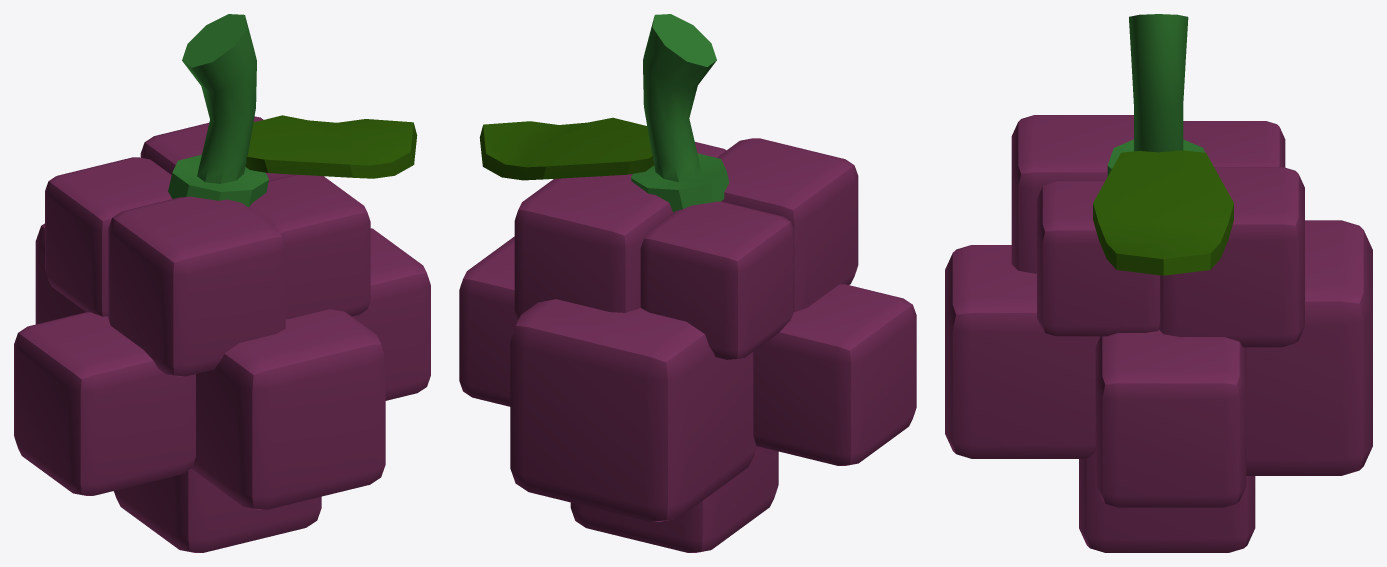
Rendered from Berry.fbx.
3 renders of one model, left to right at view 1: azimuth 30°, elevation 25°; view 2: azimuth 150°, elevation 25°; view 3: azimuth 270°, elevation 25°, orthographic. The views are drawn at different scales.
Visible parts, largest first — view 1: Berry; view 2: Berry; view 3: Berry.
Boxes of the visible parts, x1,y1,x2,y2 form: Berry: (14,14,430,552); Berry: (459,14,916,552); Berry: (945,14,1372,552).
Size of the model in its own units: 0.0592 by 0.0718 by 0.0531.
